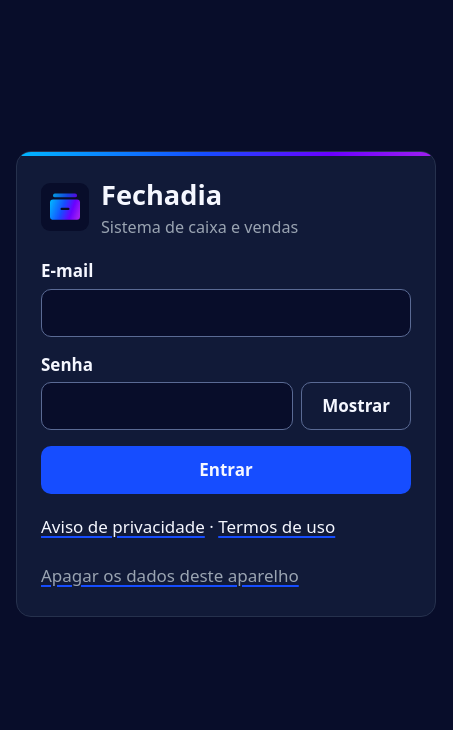
Test case: apagar os dados do aparelho › a entrada só tem o link, e ele leva à página que explica o que sai e o que fica
The image size is (453, 730).
What coordinates should you click on to do the following:
click the link "Apagar os dados deste aparelho"
I would click on:
 (170, 576)
Its box is left=41, top=560, right=299, bottom=592.
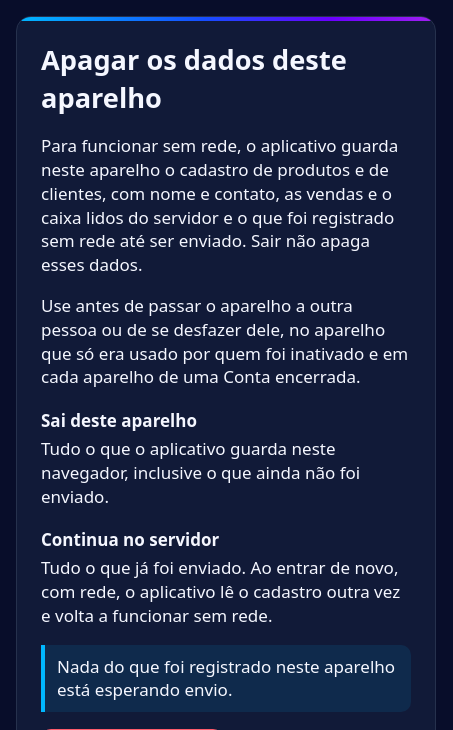
Expected: the heading "Apagar os dados deste aparelho" is shown, left=41, top=41, right=347, bottom=116
Now the heading "Sai deste aparelho" is shown, box left=41, top=409, right=197, bottom=432
Now the heading "Continua no servidor" is shown, box left=41, top=528, right=219, bottom=551
